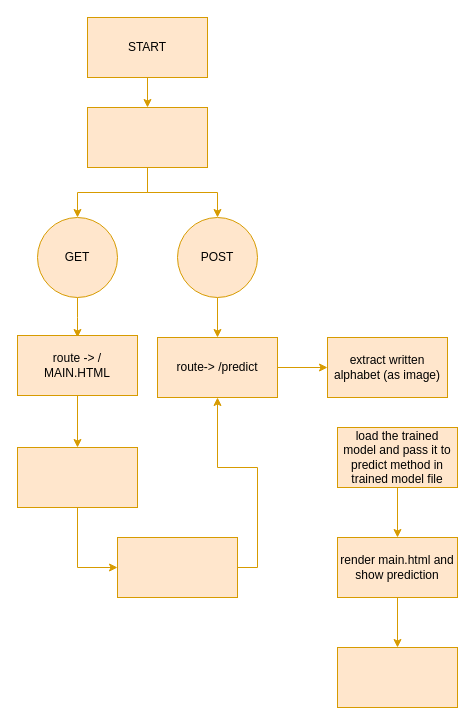
The diagram is 475 pixels wide and 725 high, and some of its shapes have lost their labels. The shapes that lost their labels are listed below. From the top down, each one's box as (x1, y1, x2, y2) in pixels, then its label:
(86, 106, 208, 168): REQUESTS
(16, 446, 138, 508): draw alphabet
(116, 536, 238, 598): press predict button
(336, 646, 458, 708): END
